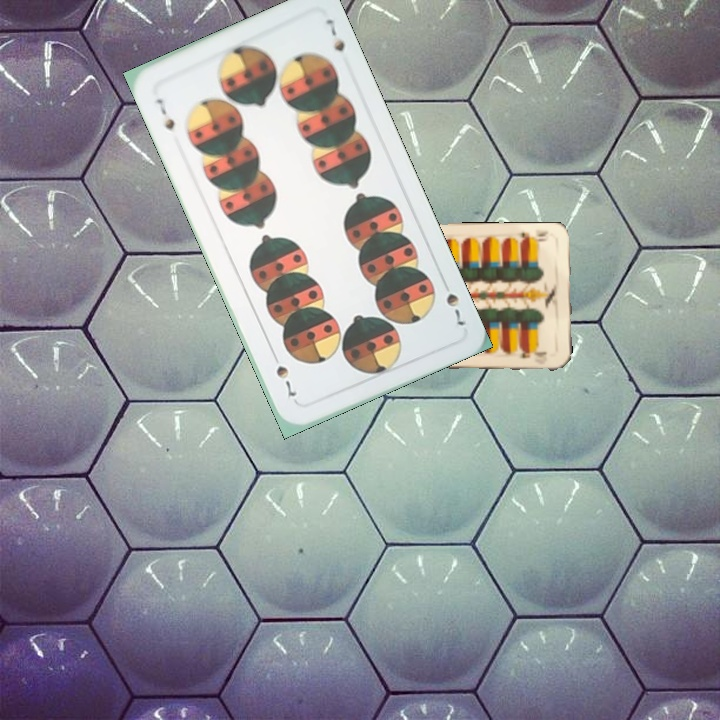E10: (516, 227, 551, 245)
S7: (441, 289, 469, 329), (152, 94, 178, 136)
